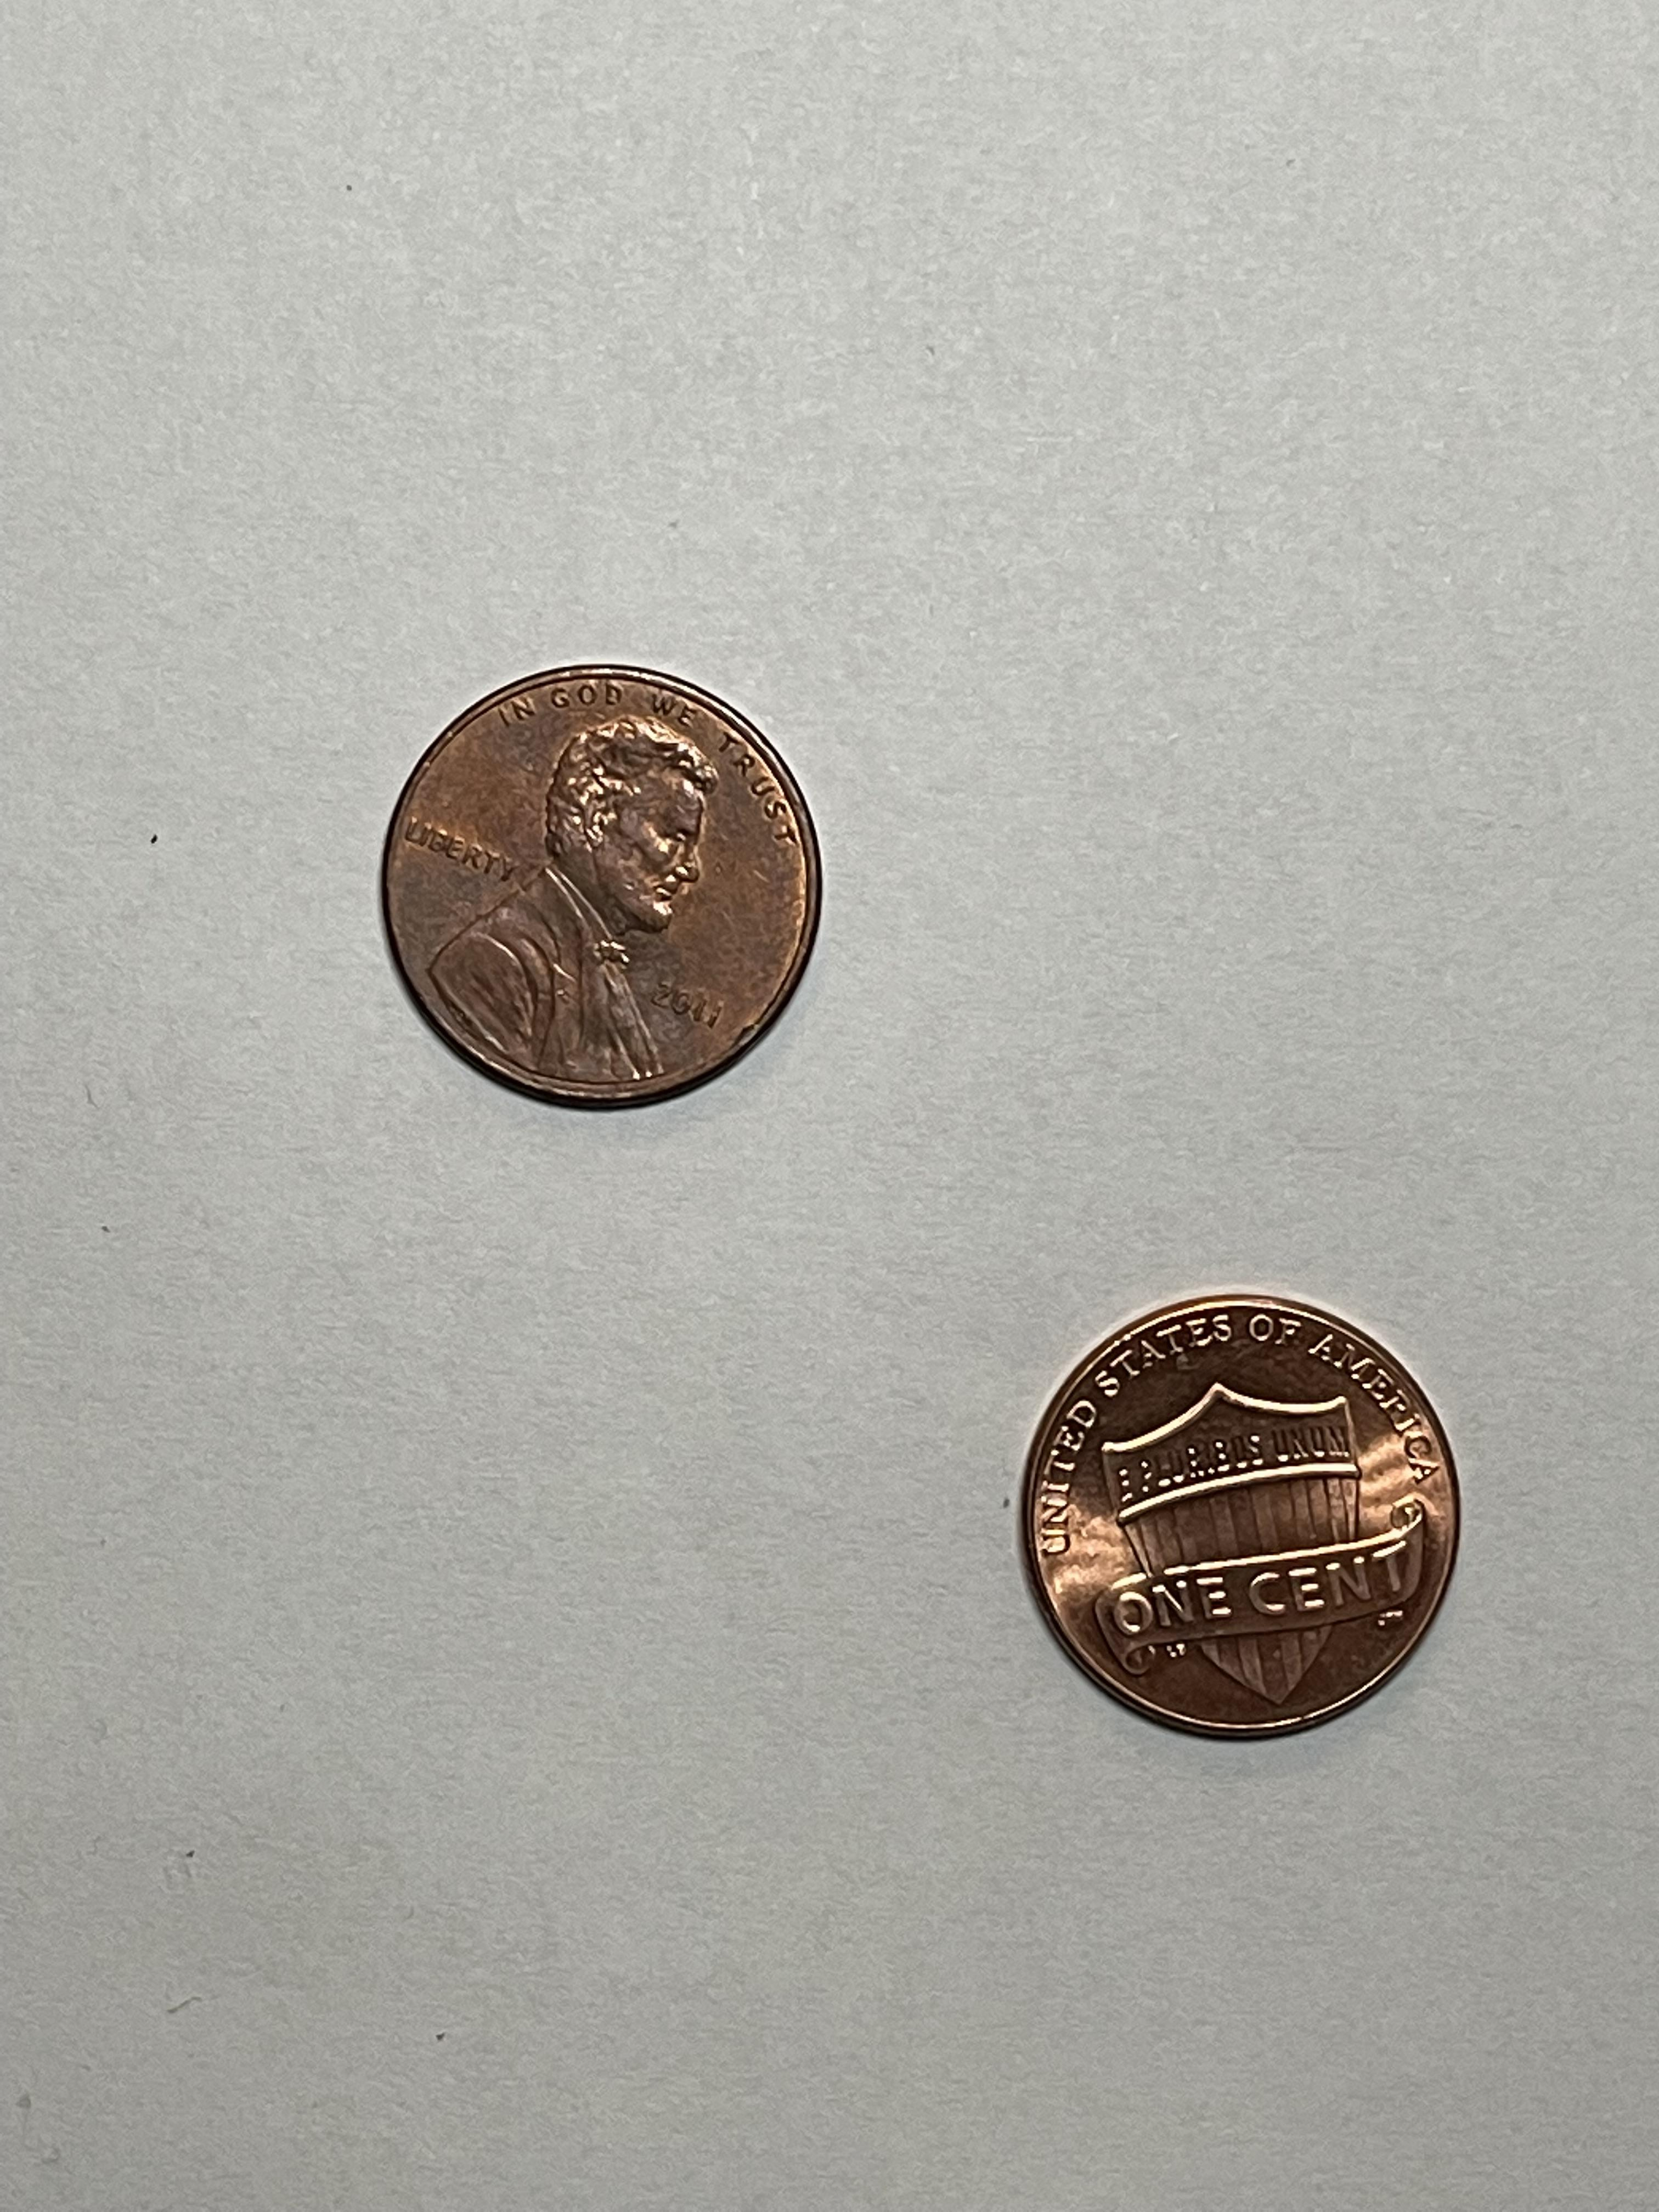Penny: (1014, 1292, 1467, 1738), (383, 655, 835, 1101)
